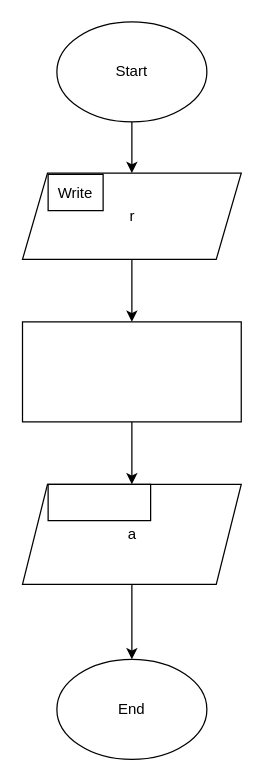
Some shapes in this 263 by 781 pixel diagram are drawn without their labels. Each missing label, with the box of its shape:
Read OR Print: (47, 483, 151, 521)
π * r * r: (21, 321, 241, 422)
